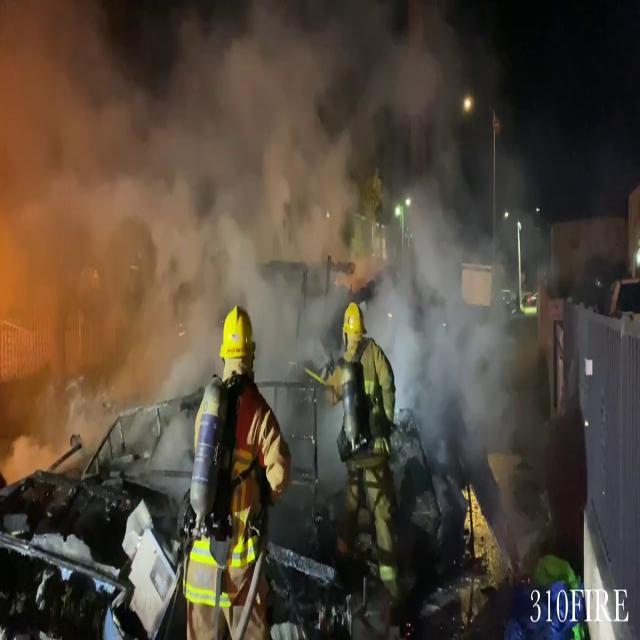Smoke: (0, 0, 543, 469)
